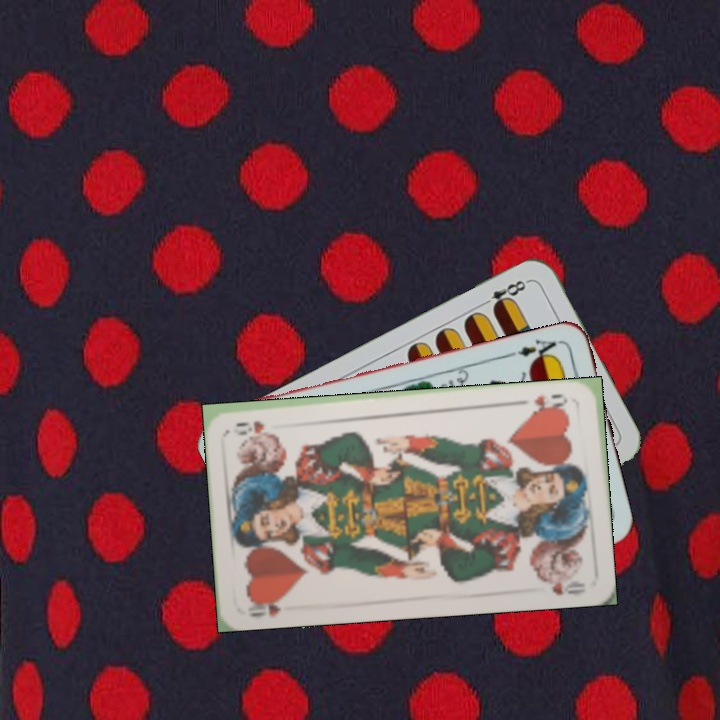E8: (477, 276, 532, 314)
EA: (514, 335, 559, 365)
HO: (245, 592, 291, 620), (528, 389, 571, 415)
